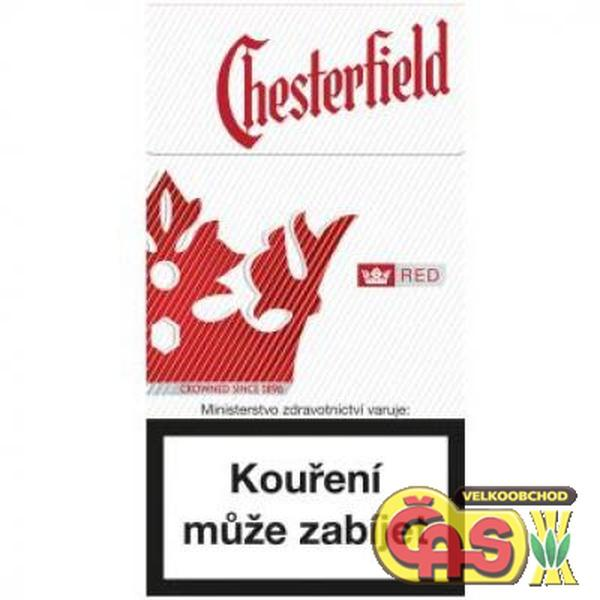chesterfield_red: (145, 7, 462, 596)
